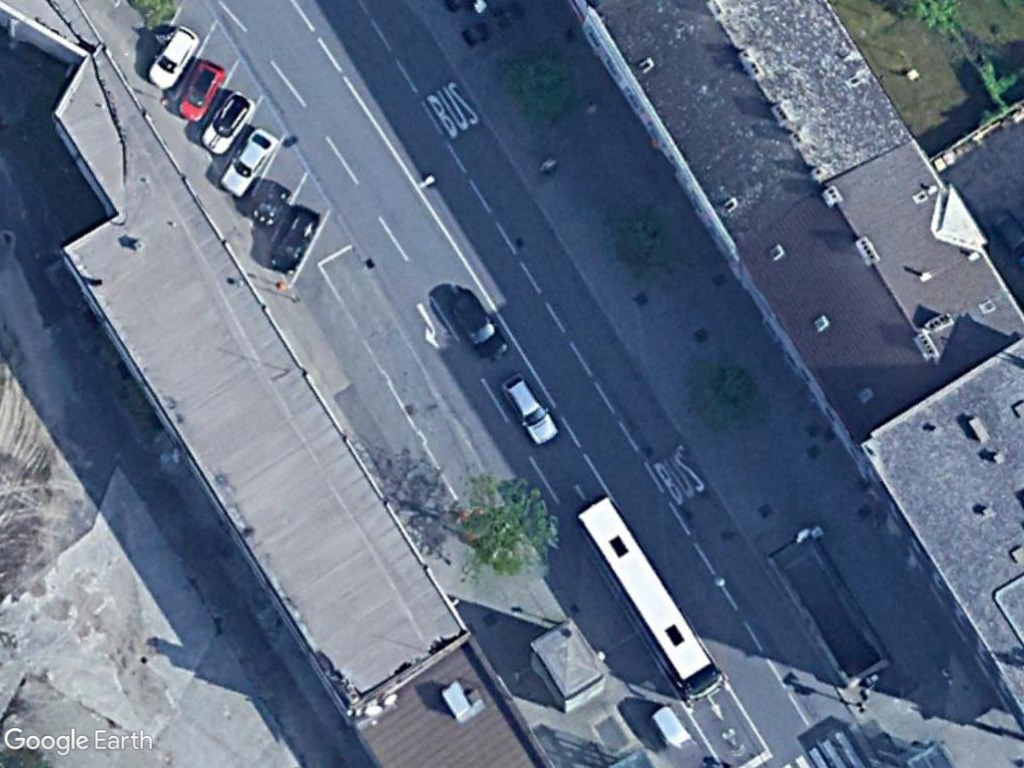bus: (571, 492, 728, 701)
car: (494, 368, 560, 448), (446, 280, 511, 361), (219, 123, 280, 199), (265, 203, 321, 277), (144, 19, 200, 92), (198, 88, 255, 157), (173, 58, 225, 125)
